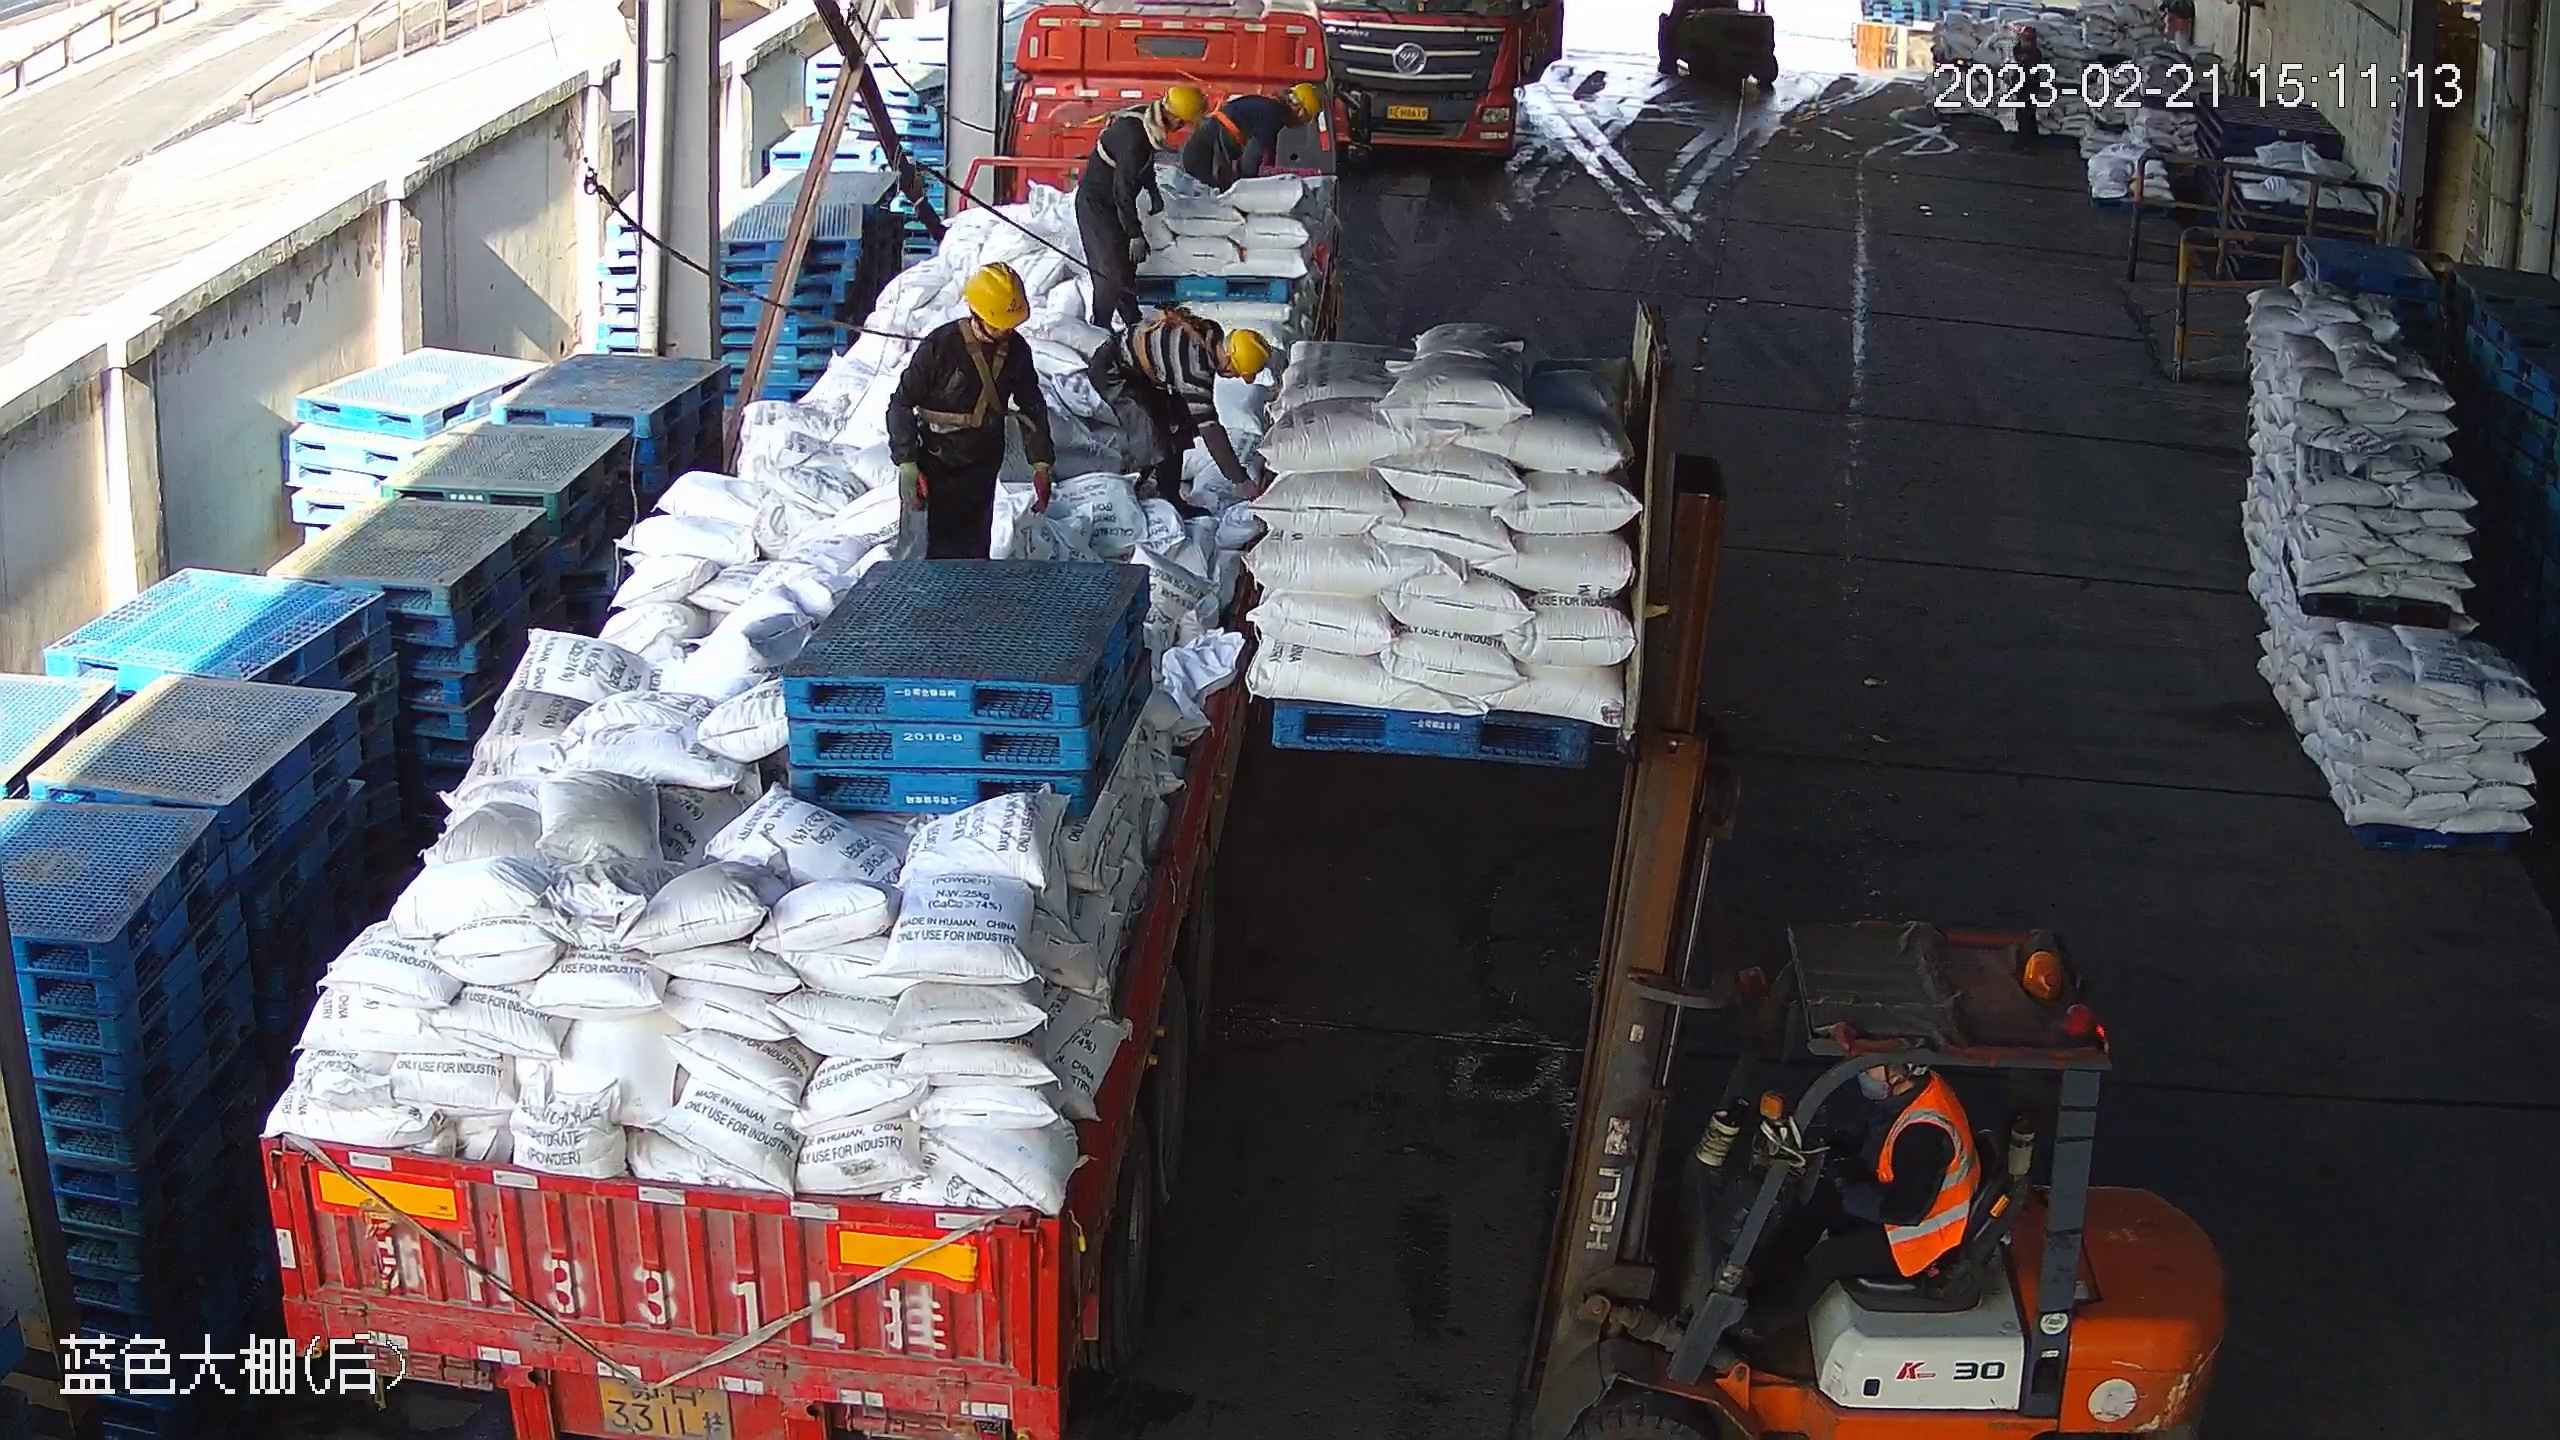belt: (916, 316, 1038, 432), (1135, 296, 1218, 387), (1088, 100, 1163, 167), (1208, 91, 1278, 147)
head: (914, 263, 1041, 385), (1180, 318, 1273, 406), (1113, 85, 1207, 160), (1247, 82, 1321, 149)
helmet: (963, 262, 1031, 327), (1228, 328, 1273, 385), (1167, 85, 1207, 123), (1293, 83, 1322, 117)
people: (1724, 1060, 1981, 1352), (886, 261, 1057, 560), (1088, 312, 1272, 517), (1075, 86, 1207, 334), (1182, 83, 1321, 195)
truck: (262, 1, 1370, 1440), (1315, 1, 1565, 160)
